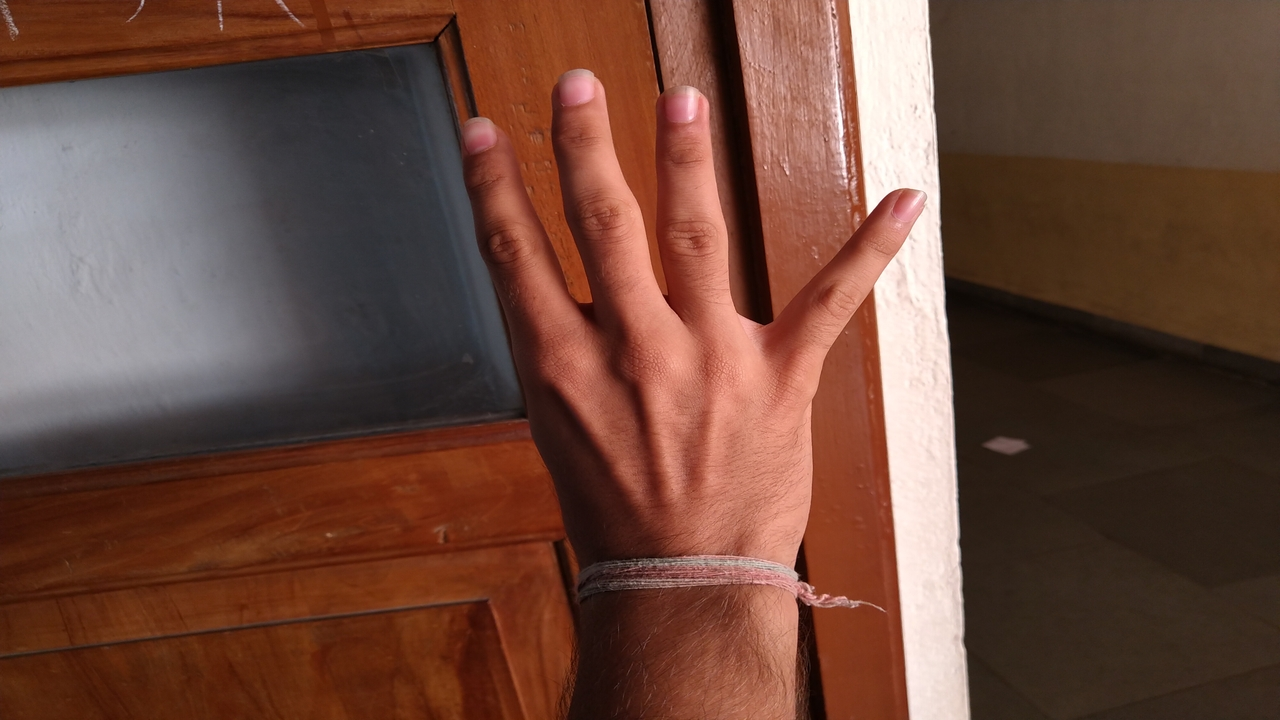fingertip: (650, 82, 718, 140), (868, 178, 938, 230), (548, 66, 610, 124), (450, 110, 504, 164)
